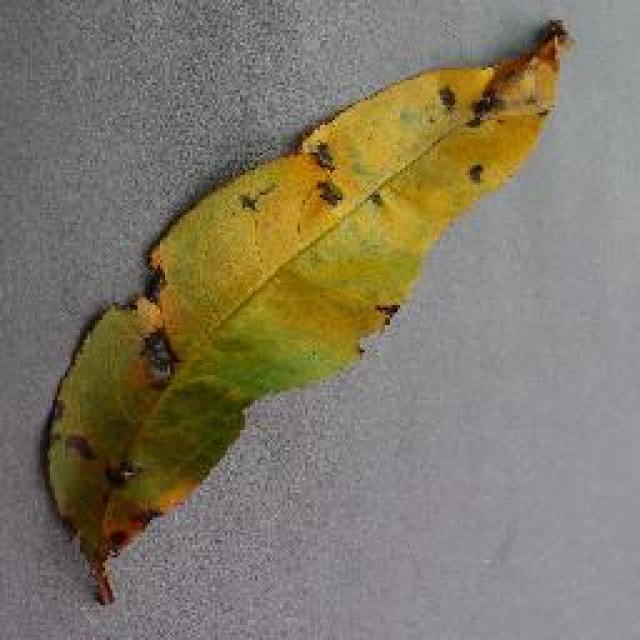Peach_Bacterial_Spot: (100, 88, 525, 420)
